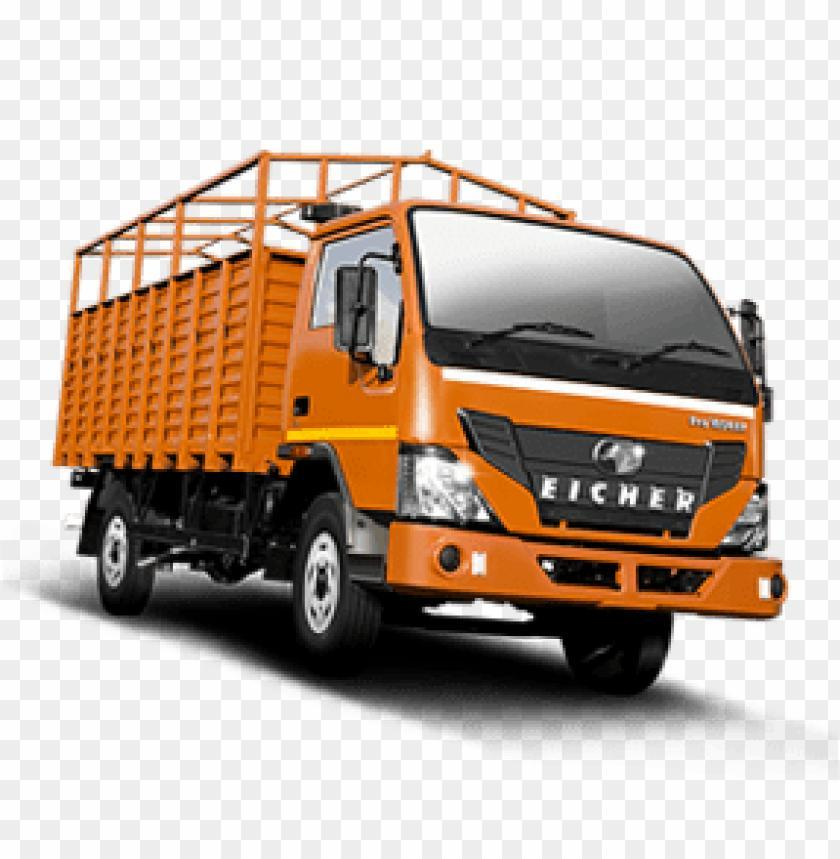truck: (55, 129, 780, 715)
